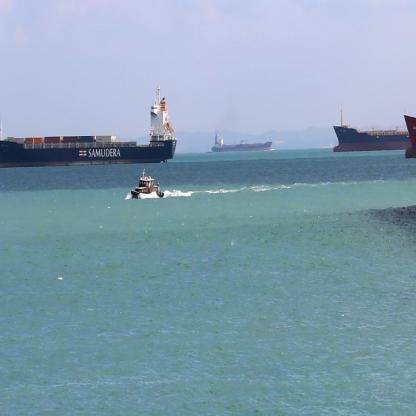Container Ship: (0, 83, 177, 167), (332, 108, 410, 152), (211, 131, 273, 153), (404, 114, 416, 158)
